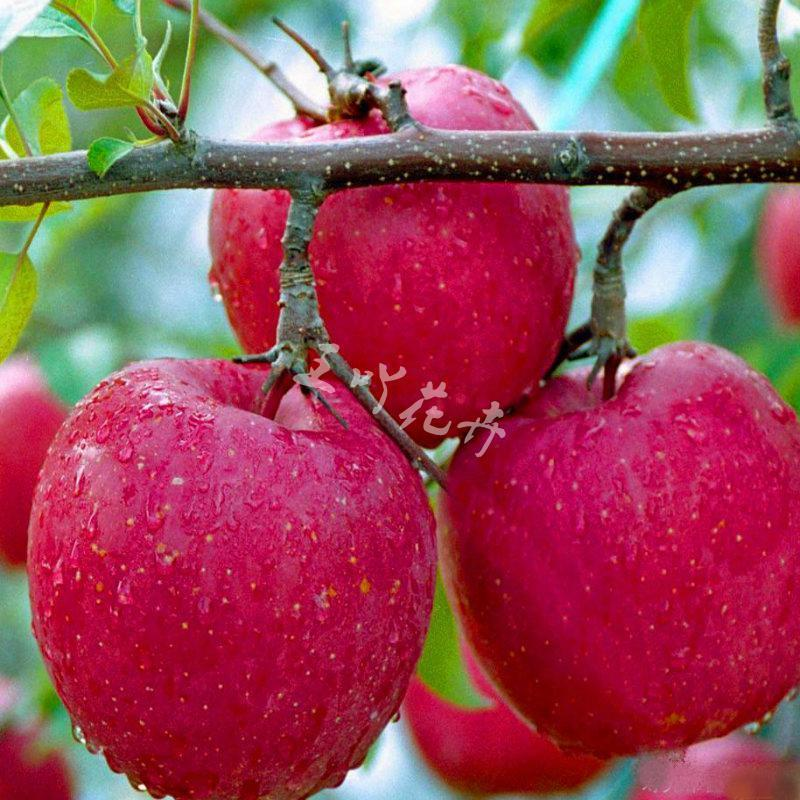apple: (18, 366, 439, 793), (402, 358, 800, 780), (214, 59, 581, 425)
